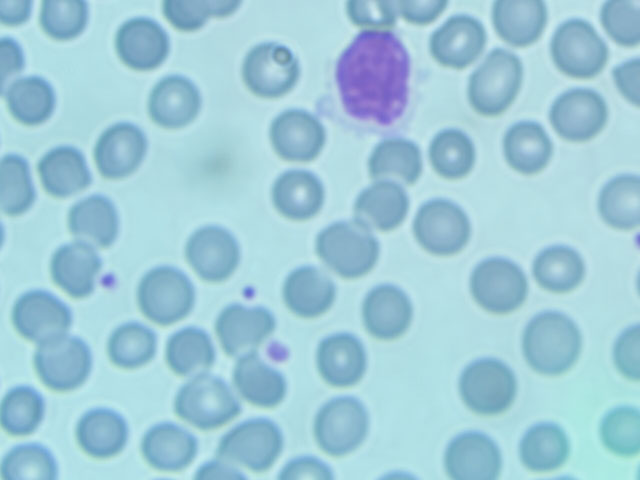Platelets: (260, 327, 298, 369), (94, 264, 125, 299), (240, 276, 264, 309)
RBC: (465, 54, 525, 111), (427, 13, 487, 70), (548, 85, 607, 142), (549, 22, 608, 79), (1, 73, 60, 130), (410, 201, 470, 257), (355, 181, 415, 237), (426, 129, 486, 185), (461, 356, 521, 412), (442, 424, 502, 480), (221, 417, 281, 473), (186, 222, 245, 278), (138, 263, 197, 319), (102, 316, 161, 372), (161, 316, 220, 372), (176, 372, 235, 428), (140, 418, 199, 474), (76, 404, 135, 460), (33, 341, 92, 397), (14, 287, 73, 343), (44, 245, 103, 301), (65, 193, 124, 249), (35, 142, 94, 198), (93, 119, 152, 175), (145, 74, 204, 130), (113, 16, 172, 72), (241, 42, 300, 98), (268, 104, 327, 160), (271, 165, 330, 221), (317, 220, 376, 276), (282, 261, 341, 317), (359, 283, 418, 339), (313, 331, 372, 387), (314, 398, 373, 454), (233, 358, 292, 414), (469, 256, 528, 312), (533, 238, 592, 294), (498, 121, 557, 177), (523, 311, 582, 367)
